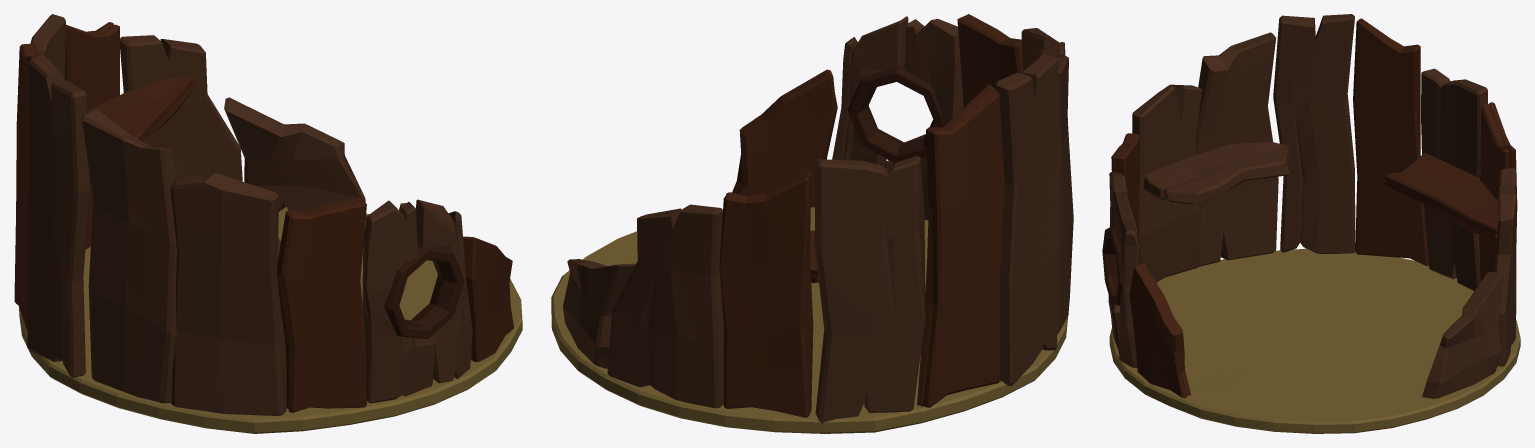
The model's file is quest giver place.glb.
3 renders of one model, left to right at view 1: azimuth 30°, elevation 25°; view 2: azimuth 150°, elevation 25°; view 3: azimuth 270°, elevation 25°, orthographic. The views are drawn at different scales.
Parts seen in each view (by area): view 1: Quest_Giver_Place; view 2: Quest_Giver_Place; view 3: Quest_Giver_Place.
Part boxes in pixels (x1=…): Quest_Giver_Place: x1=14, y1=14, x2=522, y2=433; Quest_Giver_Place: x1=551, y1=14, x2=1073, y2=433; Quest_Giver_Place: x1=1102, y1=14, x2=1520, y2=433.
Bounding box in the file's own units: 8.05 × 5.31 × 8.09.
